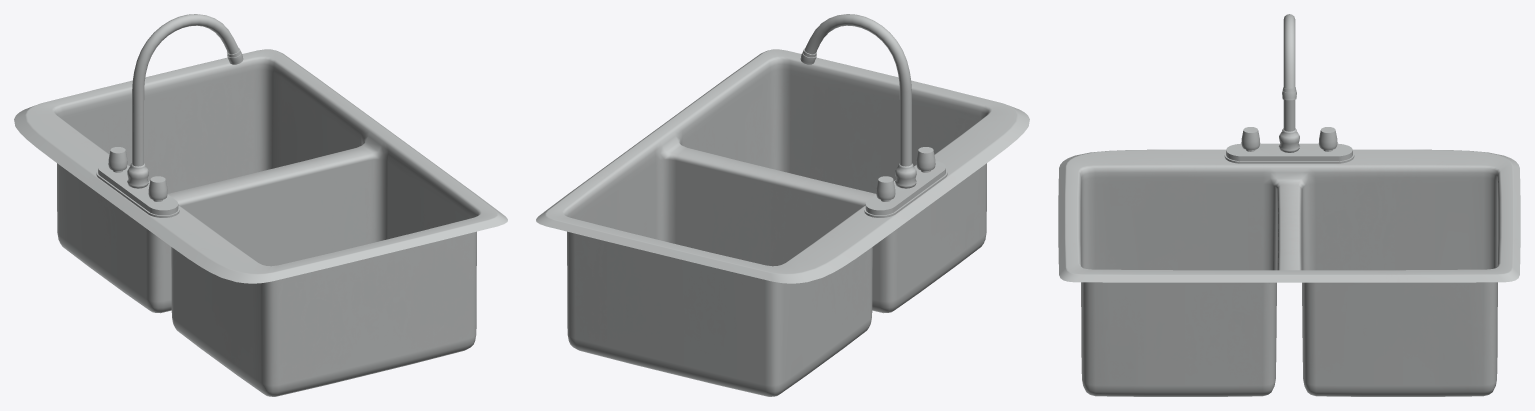
3 views of the same model, side by side, from view 1: azimuth 30°, elevation 25°; view 2: azimuth 150°, elevation 25°; view 3: azimuth 270°, elevation 25° (orthographic). The views are drawn at different scales.
Parts seen in each view (by area): view 1: KitchenSink, KitchenSinkFaucet, KitchenSinkHandleR, KitchenSinkHandleL; view 2: KitchenSink, KitchenSinkFaucet, KitchenSinkHandleL, KitchenSinkHandleR; view 3: KitchenSink, KitchenSinkFaucet, KitchenSinkHandleR, KitchenSinkHandleL.
Boxes of the visible parts, bbox=[...] form: KitchenSink: bbox=[14, 49, 507, 396]; KitchenSinkFaucet: bbox=[127, 14, 243, 188]; KitchenSinkHandleR: bbox=[108, 147, 127, 172]; KitchenSinkHandleL: bbox=[148, 176, 167, 201]; KitchenSink: bbox=[536, 49, 1029, 396]; KitchenSinkFaucet: bbox=[800, 14, 916, 188]; KitchenSinkHandleL: bbox=[916, 147, 935, 172]; KitchenSinkHandleR: bbox=[876, 176, 895, 201]; KitchenSink: bbox=[1058, 143, 1520, 396]; KitchenSinkFaucet: bbox=[1279, 14, 1299, 152]; KitchenSinkHandleR: bbox=[1318, 127, 1337, 151]; KitchenSinkHandleL: bbox=[1241, 127, 1260, 151].
Size of the model in its own units: 0.5674 by 0.6311 by 0.8332.
1 material, 1 textured.
